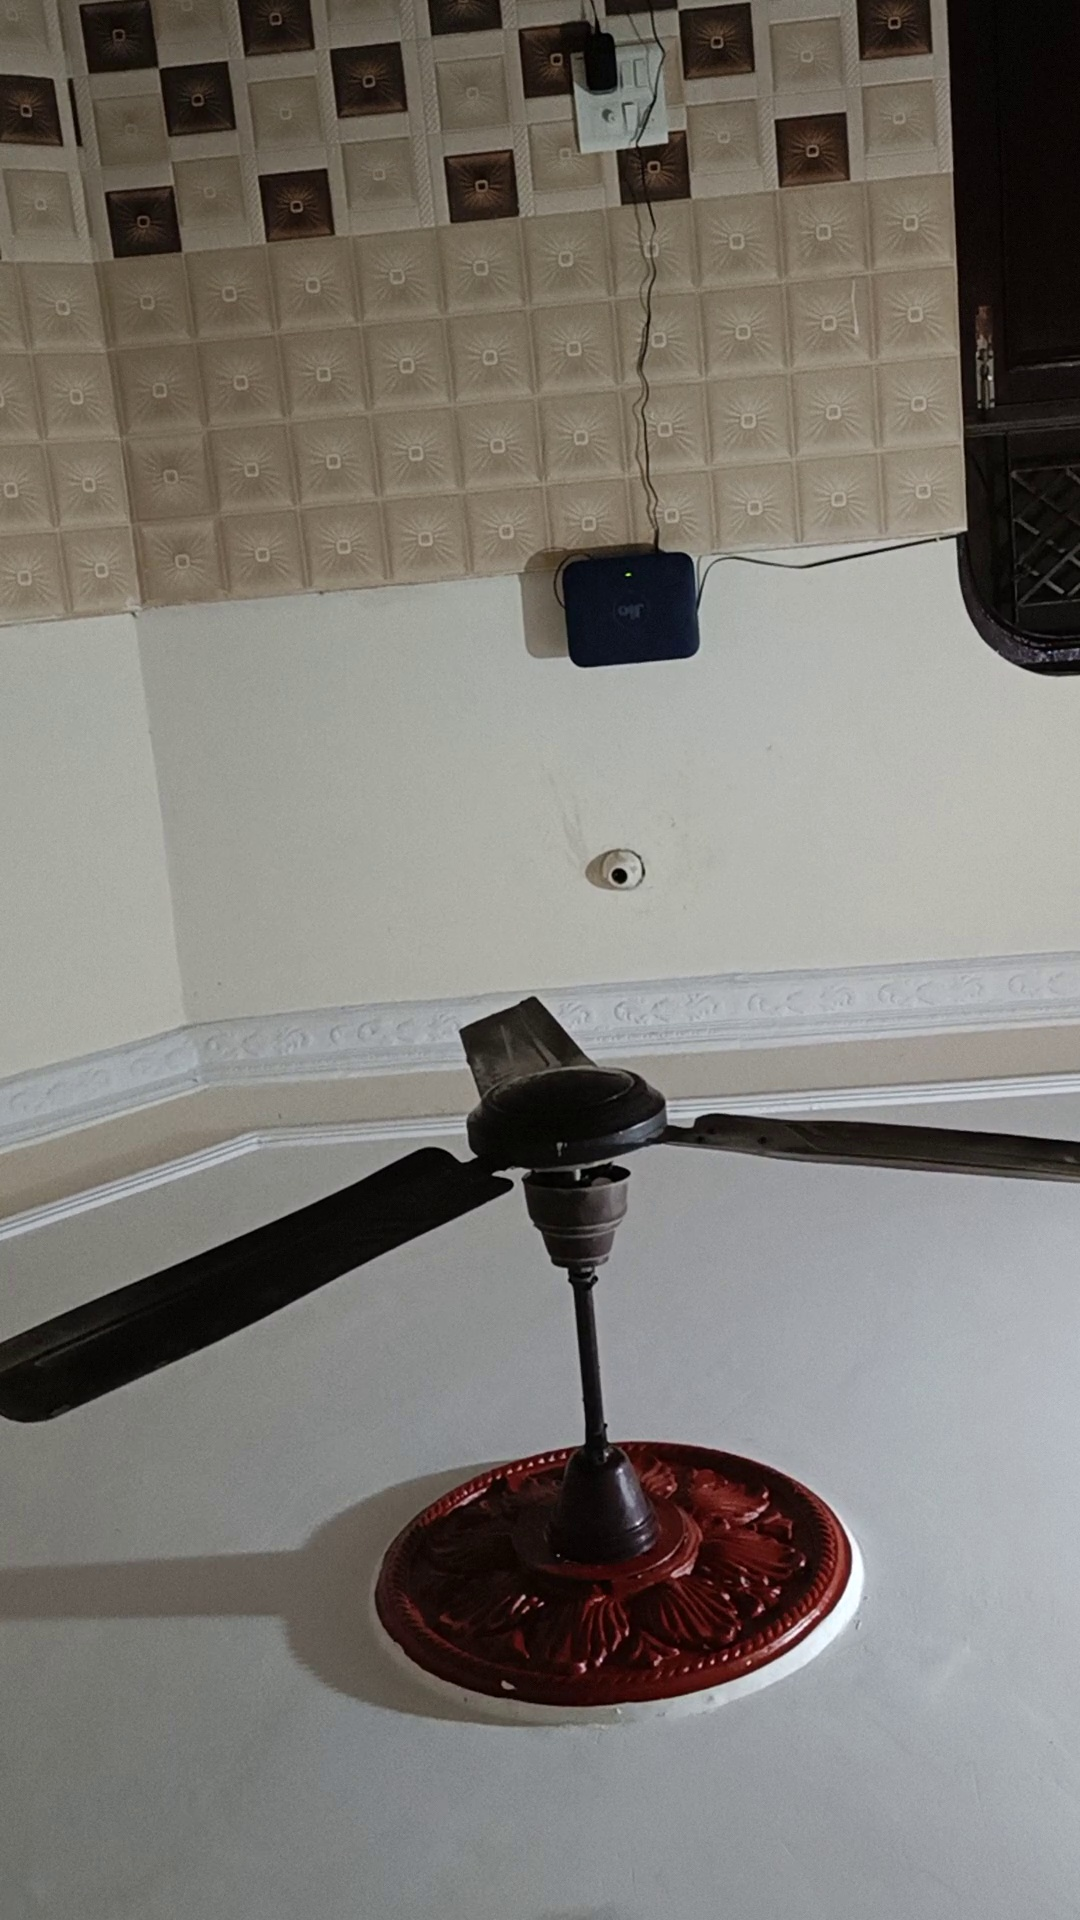fan: (11, 978, 1080, 1466)
